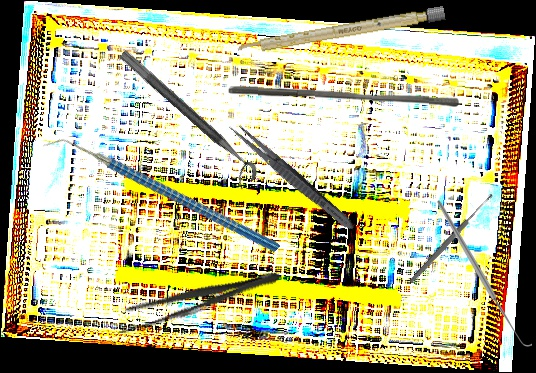Chopper: (42, 75, 281, 317)
Dressing Forceps: (225, 118, 359, 235), (111, 260, 285, 339)
Fixation Ring: (108, 48, 262, 192)
Hook Surgical: (437, 200, 532, 347)
Pusher: (226, 85, 461, 108)
Scalpel Handle: (236, 5, 446, 57)
Surgical Spoon: (408, 192, 495, 285)
